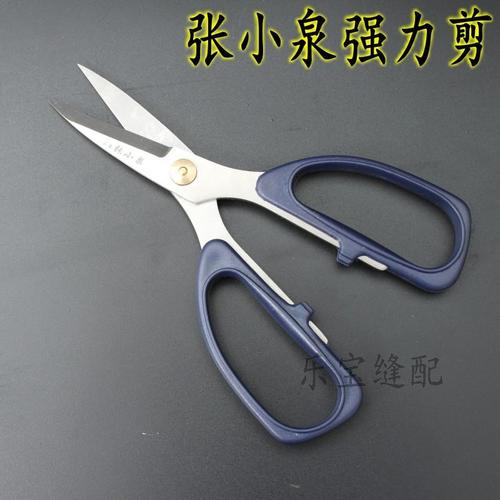scissor: (48, 61, 473, 445)
